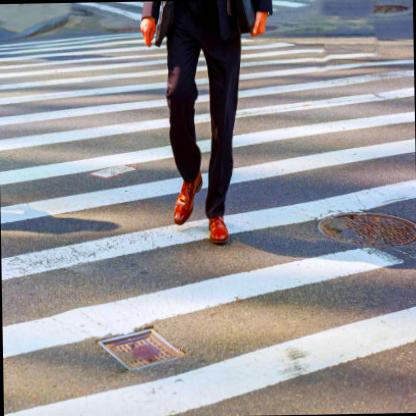manholes: (299, 178, 416, 287)
